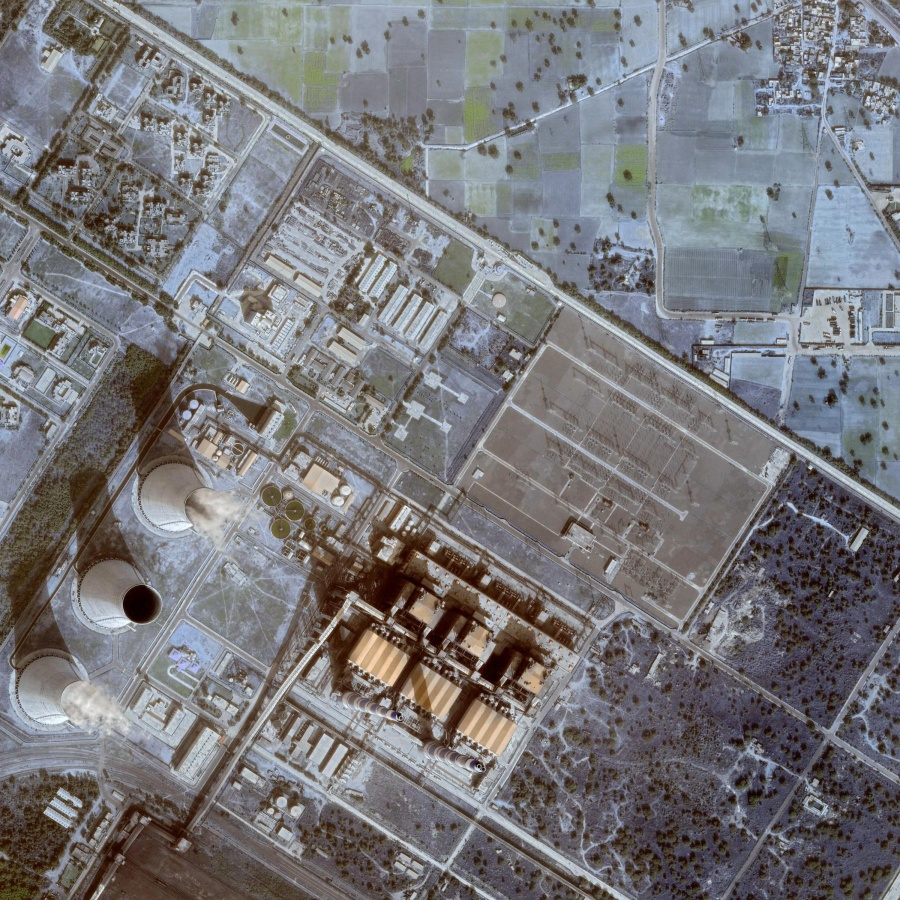PowerPlant: (3, 344, 553, 780)
